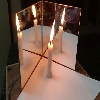fire: (50, 18, 56, 46)
